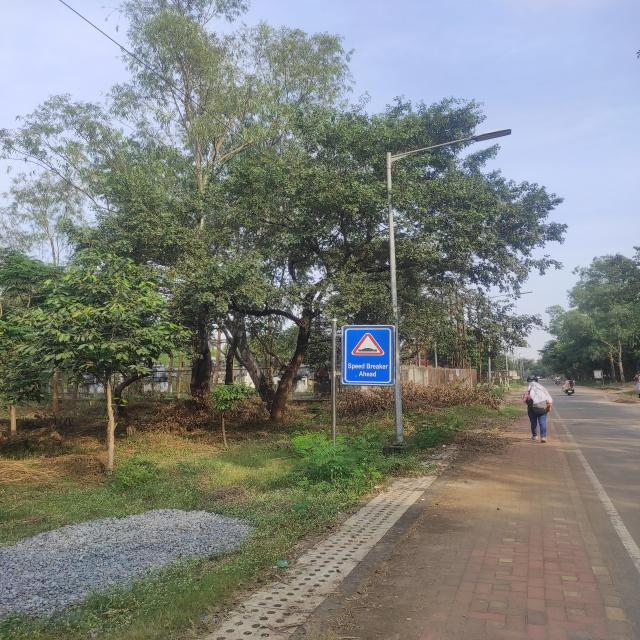Devakanchan tree: (234, 130, 488, 382)
